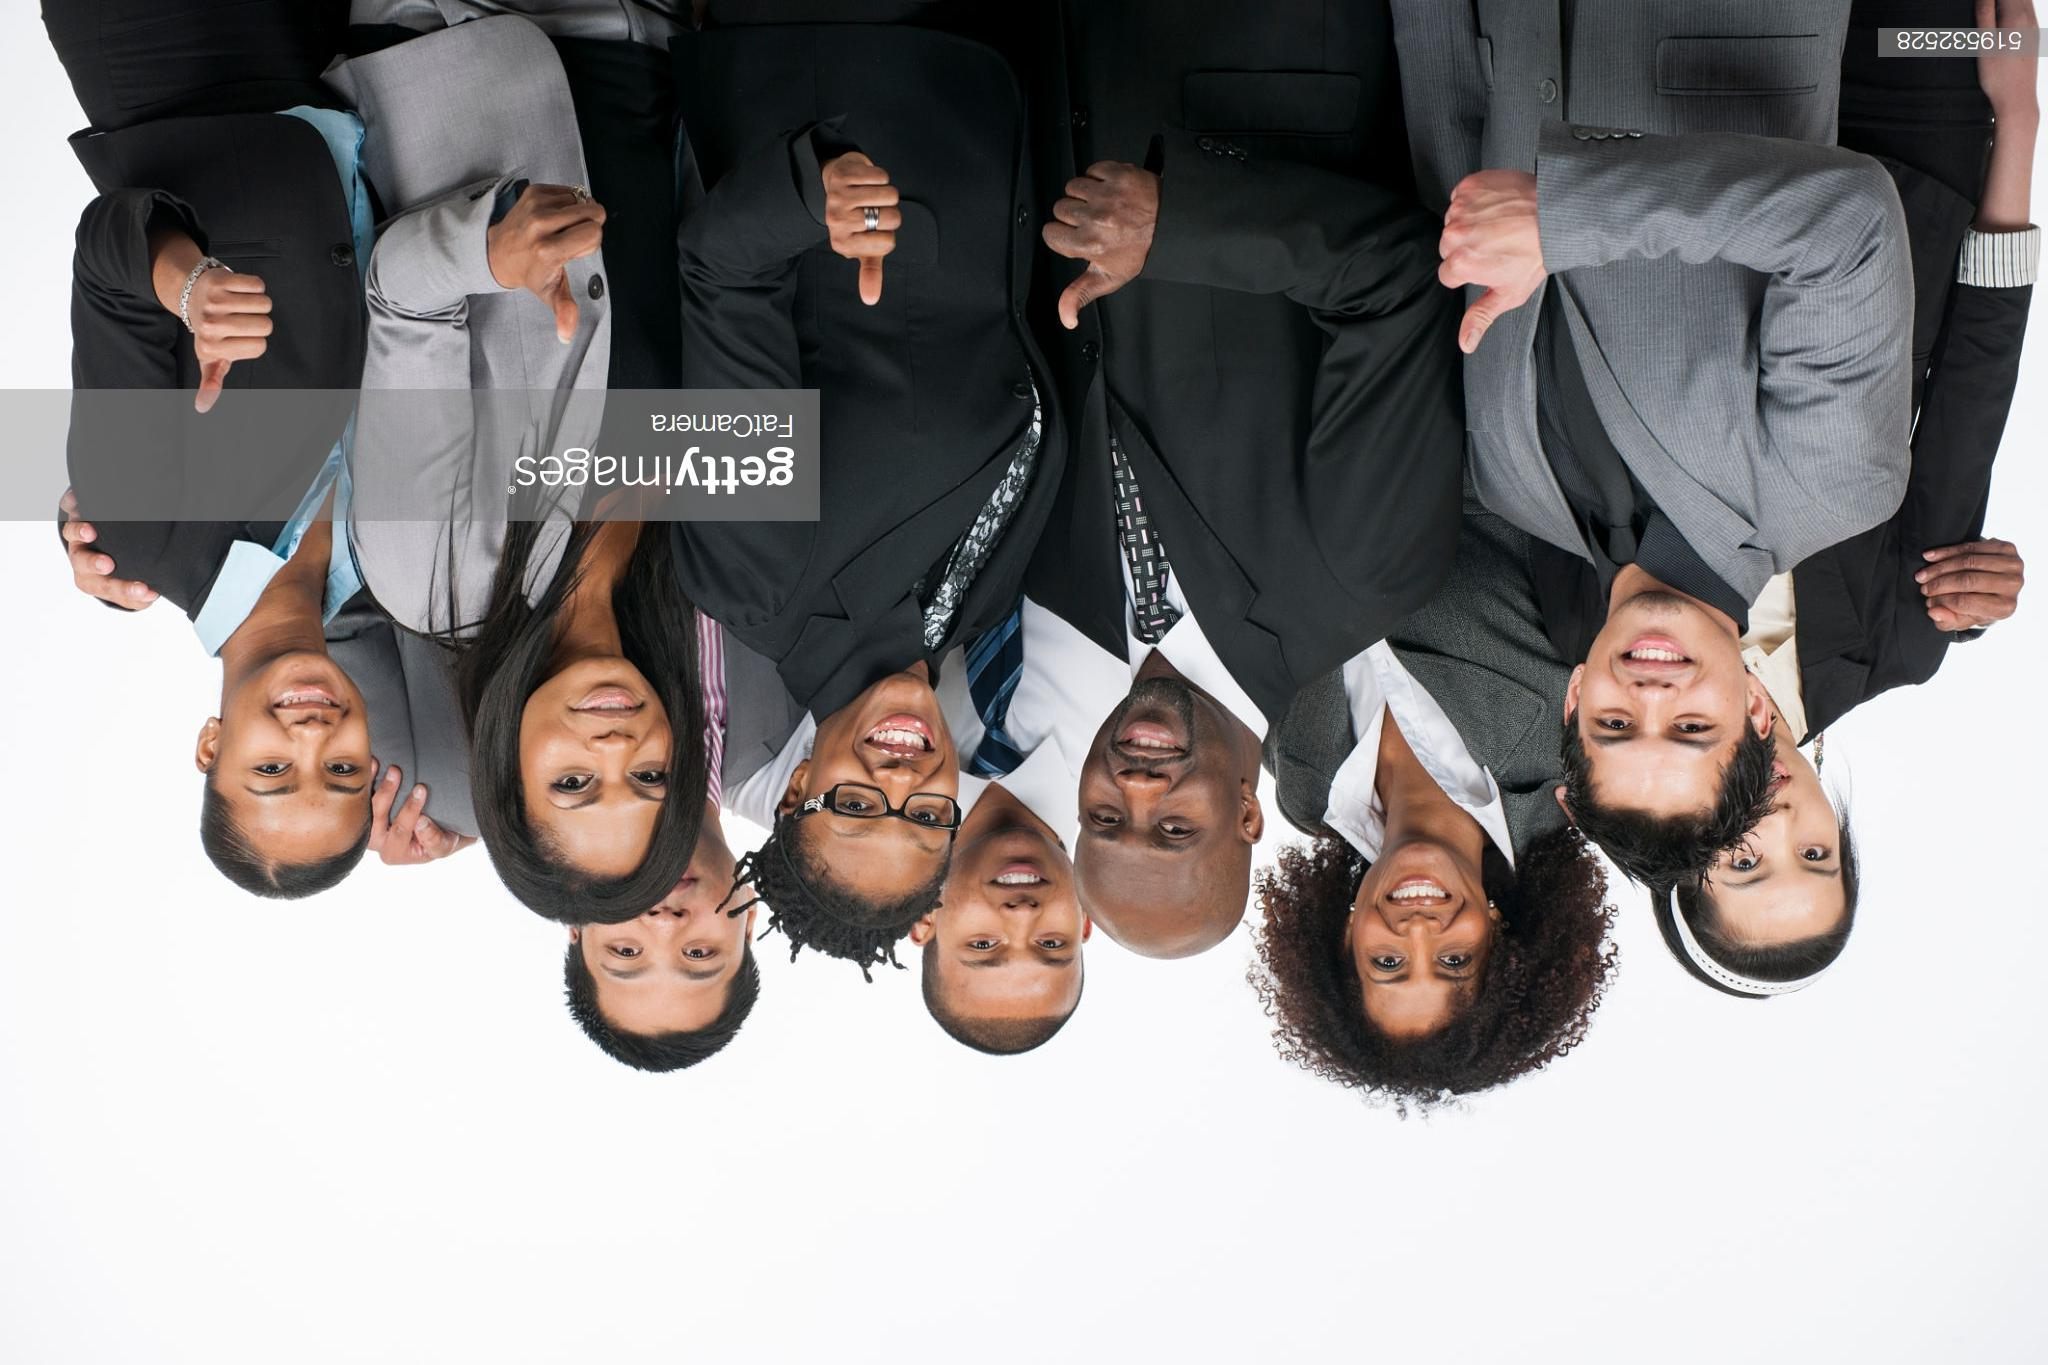thumbsdown: (1436, 168, 1520, 355), (1042, 158, 1130, 332), (524, 183, 608, 344), (825, 161, 903, 308), (193, 273, 274, 413)
